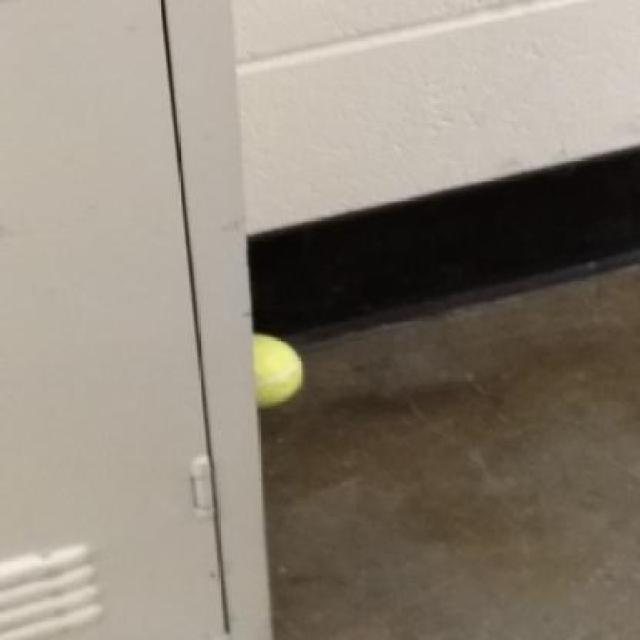Tennis_Ball: (249, 331, 302, 415)
